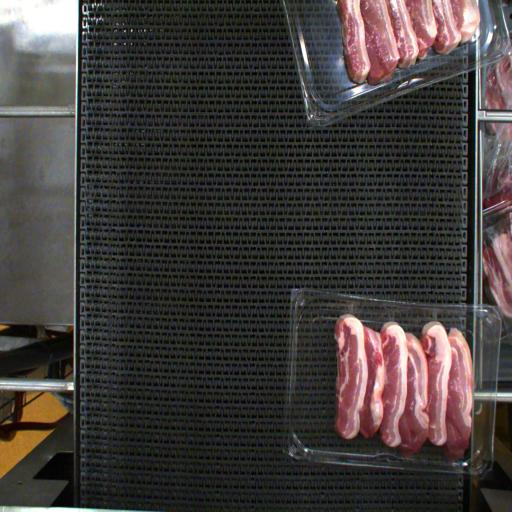packaging-error: (425, 301, 439, 327)
